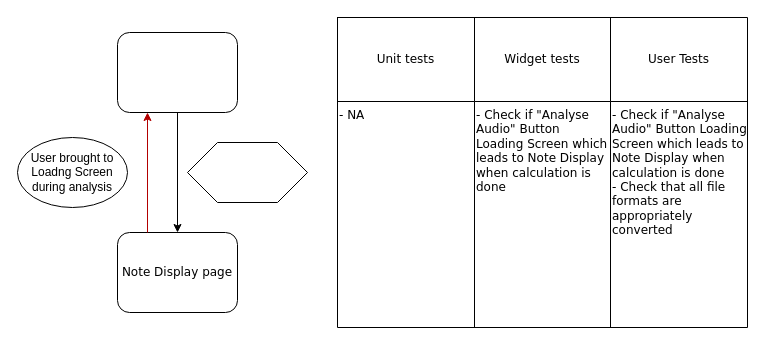
Some shapes in this 765 by 348 pixel diagram are drawn without their labels. The shapes that lost their labels are listed below. From the top down, each one's centre as x and y in pixels, then its label:
the point at 177,72: Audio Player page
the point at 247,172: User Presses Anayse audio button
